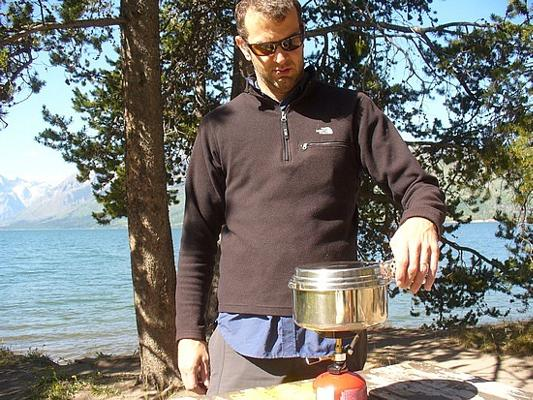person: (179, 1, 440, 400)
